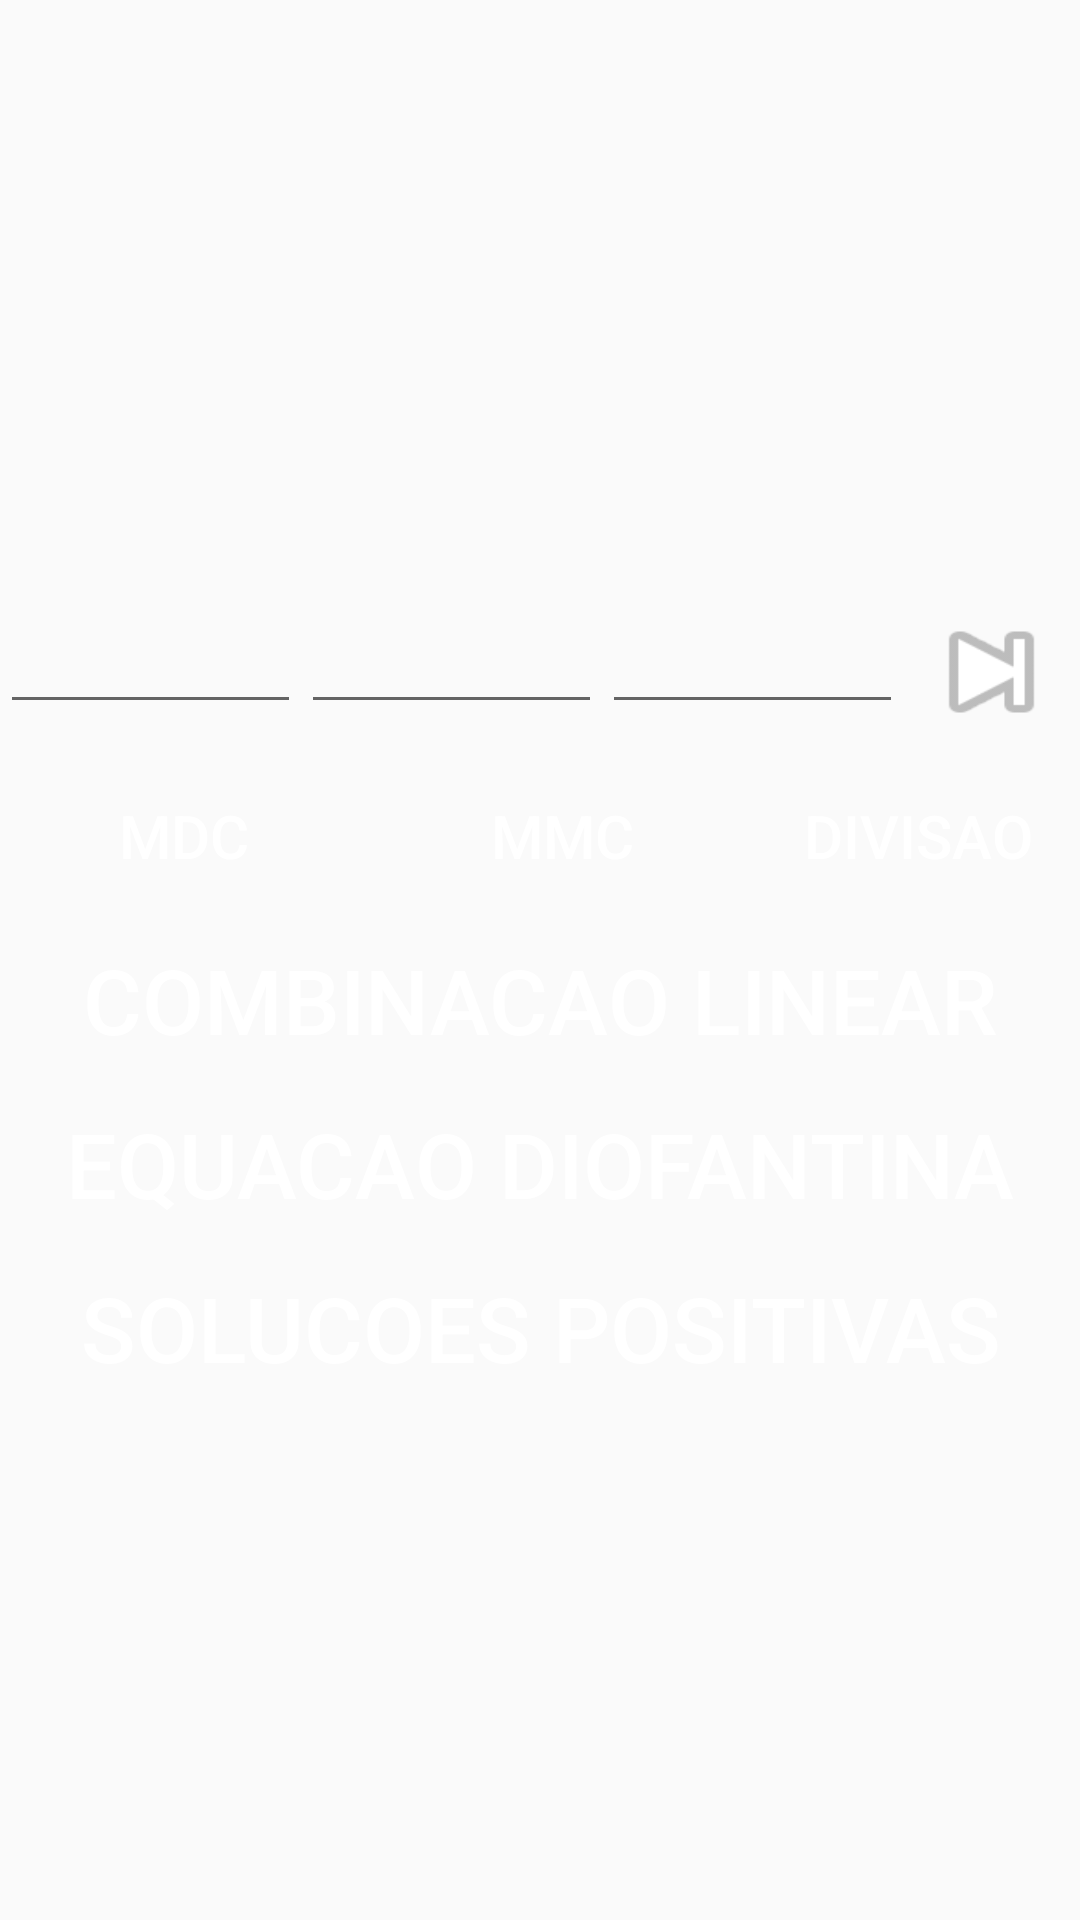

Where to tap for icons on this 1080*1920 app screen, as (x=x, y=y):
next: (x=991, y=672)
